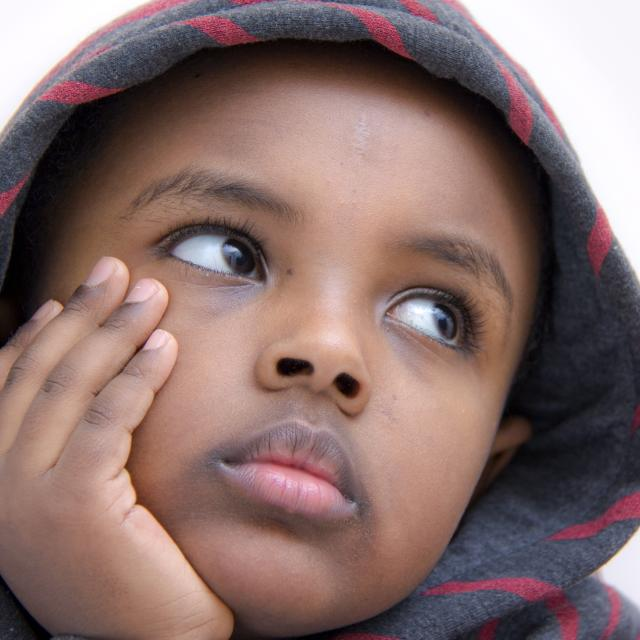Depress: (50, 44, 541, 640)
